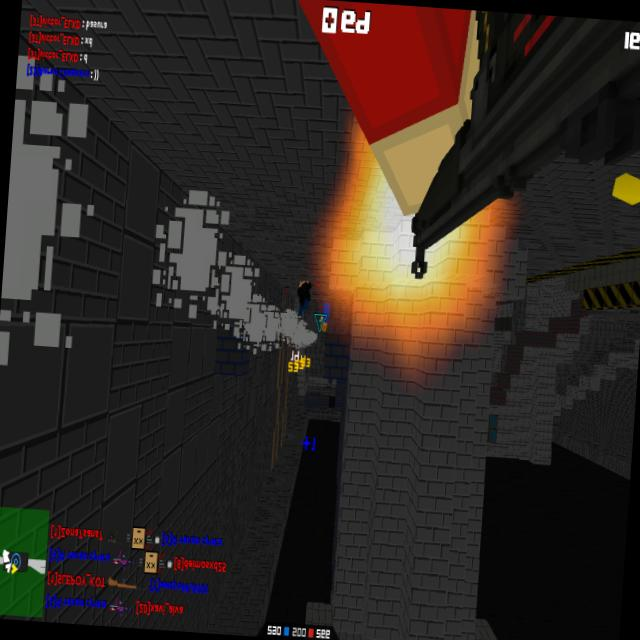enemy: (320, 299, 330, 332), (326, 377, 333, 390)
